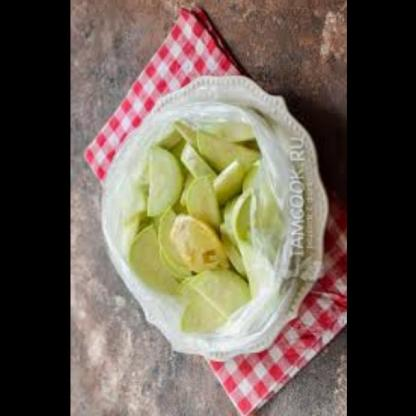vegetable marrow: (120, 122, 258, 324)
